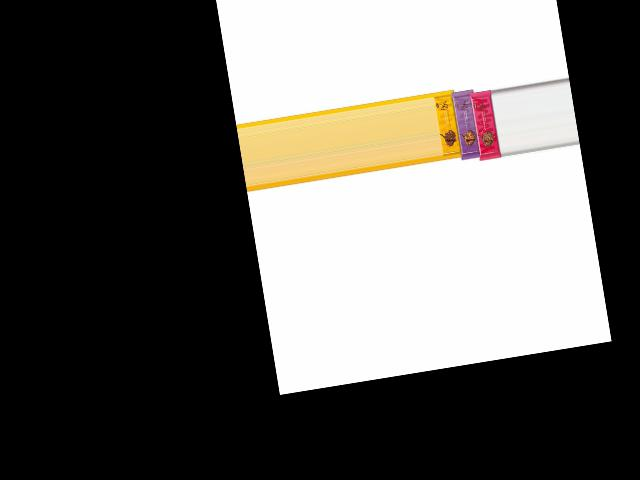chocolate: (469, 86, 503, 165)
